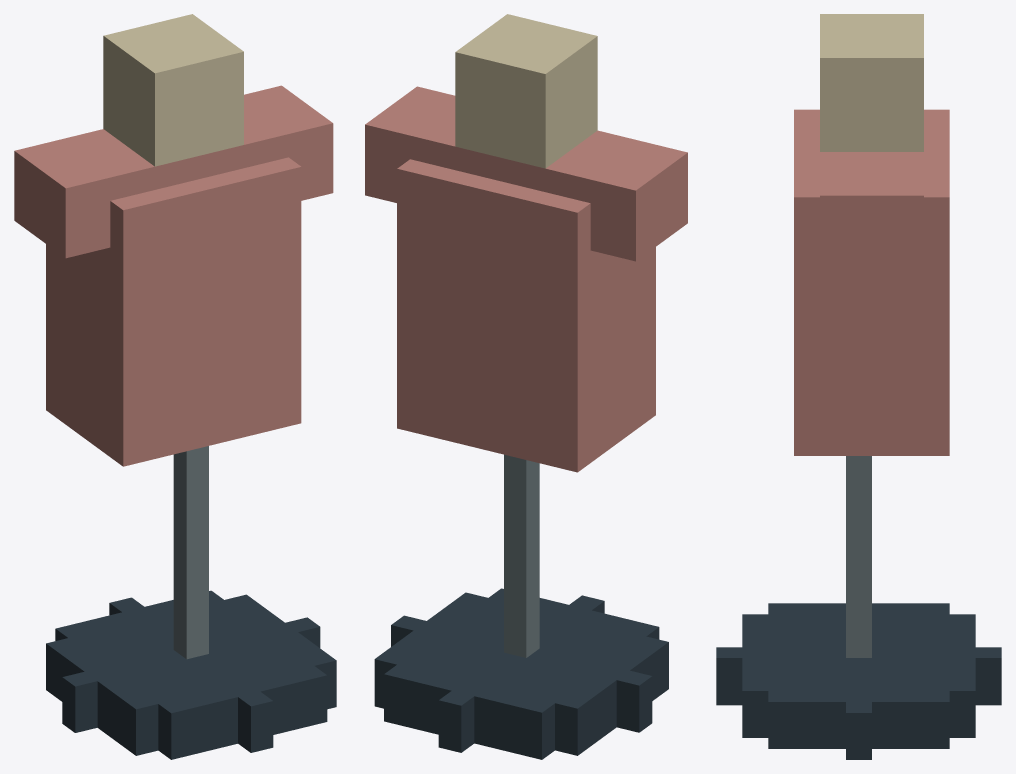
File: commerce-17.glb
The picture shows the model from 3 angles, left to right: view 1: azimuth 30°, elevation 25°; view 2: azimuth 150°, elevation 25°; view 3: azimuth 270°, elevation 25°; orthographic projection.
Parts seen in each view (by area): view 1: Display mannequin; view 2: Display mannequin; view 3: Display mannequin.
Part boxes in pixels (x1,y1,x2,y2): Display mannequin: (14,14,336,759); Display mannequin: (365,14,687,759); Display mannequin: (716,14,1001,759).
Bounding box in the file's own units: 0.96 × 2.24 × 0.88.
